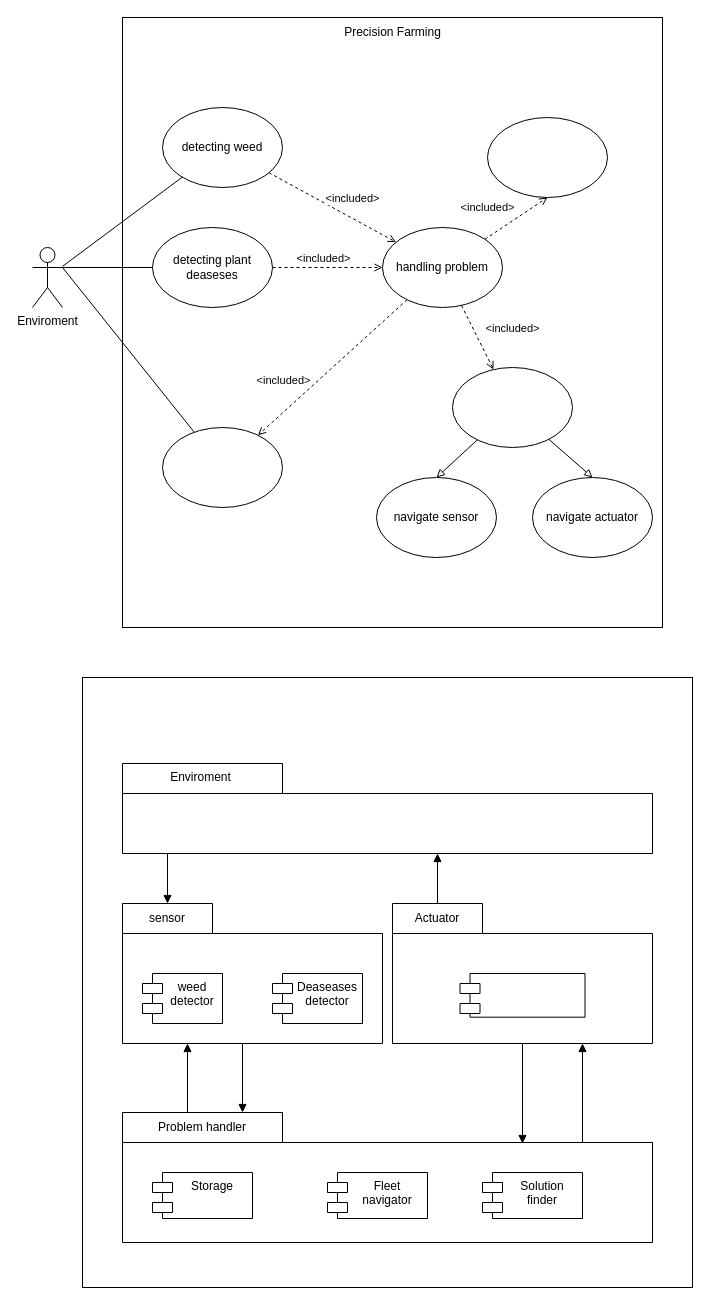
The diagram is 710 pixels wide and 1305 high, and some of its shapes have lost their labels. The centre of each missing label's shape, as x and y in pixels:
navigate fleet: point 512,407
solution tools: point 522,994
solving problem: point 222,467
storing data: point 547,157
